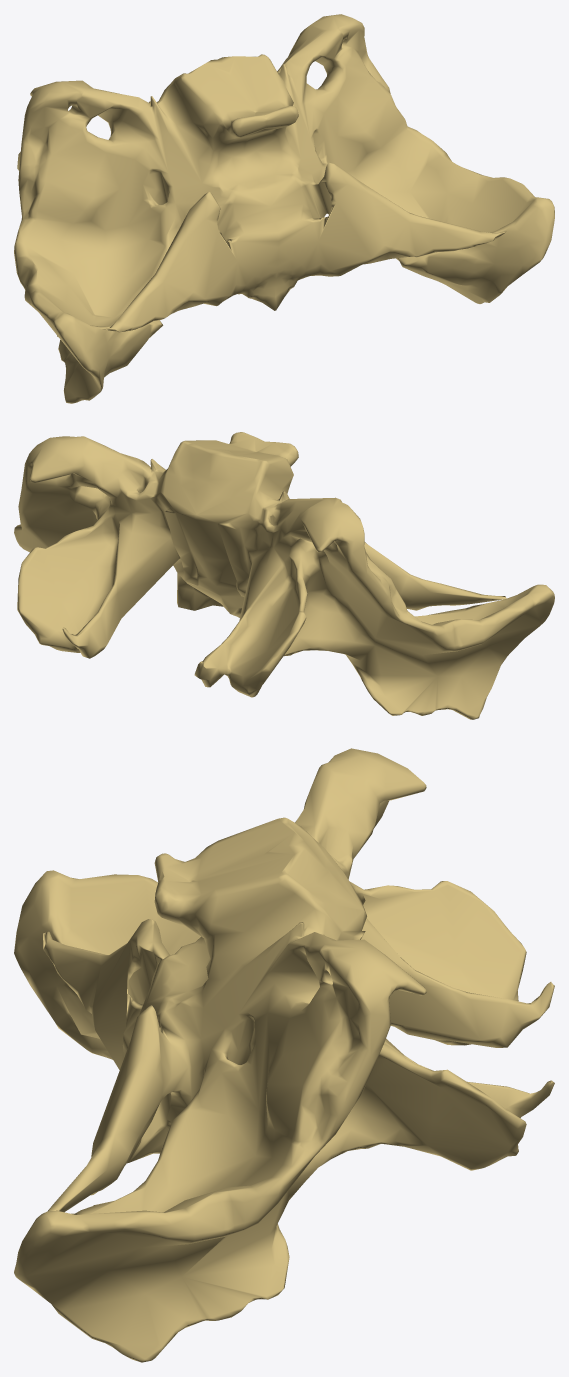
3 views of the same model, one above another, from view 1: azimuth 30°, elevation 25°; view 2: azimuth 150°, elevation 25°; view 3: azimuth 270°, elevation 25° (orthographic). The views are drawn at different scales.
Visible parts, largest first — view 1: 蝶骨; view 2: 蝶骨; view 3: 蝶骨.
Boxes of the visible parts, bbox=[...] form: 蝶骨: bbox=[14, 14, 554, 403]; 蝶骨: bbox=[14, 432, 554, 719]; 蝶骨: bbox=[14, 748, 554, 1362].
Size of the model in its own units: 0.1604 by 0.0784 by 0.103.
